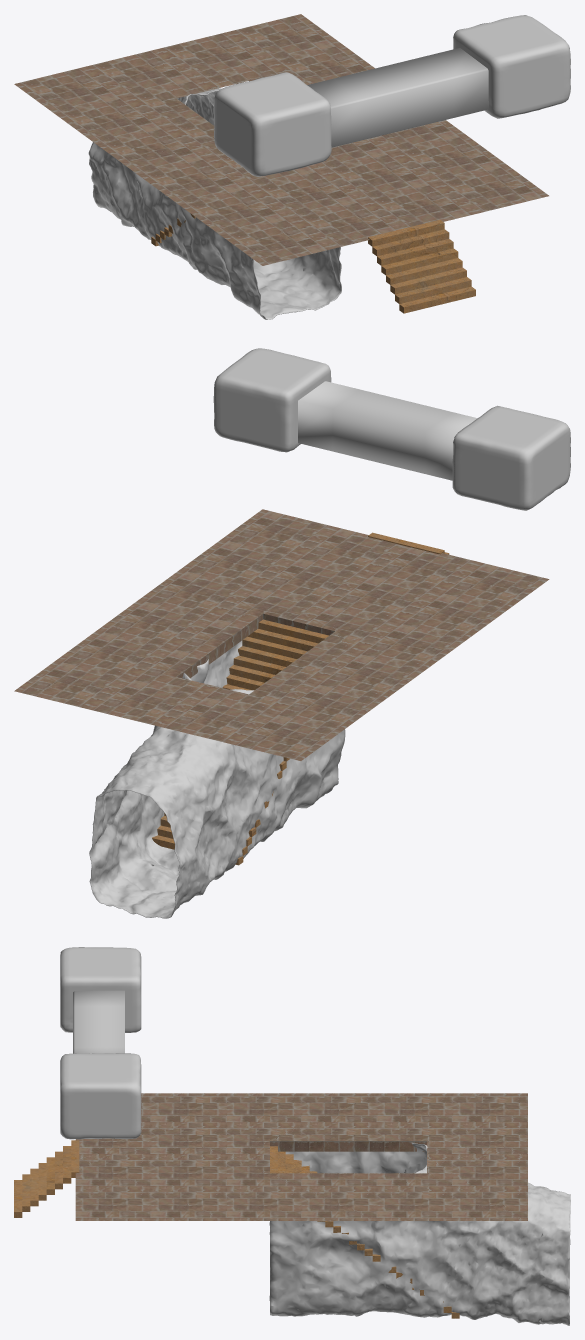
Rendered from House.gltf.
3 views of the same model, one above another, from view 1: azimuth 30°, elevation 25°; view 2: azimuth 150°, elevation 25°; view 3: azimuth 270°, elevation 25° (orthographic). The views are drawn at different scales.
Visible parts, largest first — view 1: TileGround, CornerCeilingCubeLowPoly, CaveWall, CeilingBar, Stairs; view 2: TileGround, CaveWall, CornerCeilingCubeLowPoly, CeilingBar, Stairs2; view 3: TileGround, CaveWall, CornerCeilingCubeLowPoly, CeilingBar, Stairs, Stairs2.
Part boxes in pixels (x1,y1,x2,y2): TileGround: (14, 14, 548, 265); CornerCeilingCubeLowPoly: (213, 15, 570, 176); CaveWall: (88, 88, 341, 319); CeilingBar: (307, 48, 488, 147); Stairs: (368, 220, 475, 313); TileGround: (14, 509, 549, 760); CaveWall: (89, 640, 345, 918); CornerCeilingCubeLowPoly: (213, 348, 570, 510); CeilingBar: (298, 381, 477, 480); Stairs2: (152, 619, 328, 865); TileGround: (75, 1093, 527, 1220); CaveWall: (269, 1142, 570, 1325); CornerCeilingCubeLowPoly: (60, 947, 141, 1139); CeilingBar: (73, 990, 124, 1053); Stairs: (14, 1140, 79, 1217); Stairs2: (270, 1146, 459, 1318).
Size of what is drawn, in the model's own units: 13.22 by 13.08 by 22.17.
